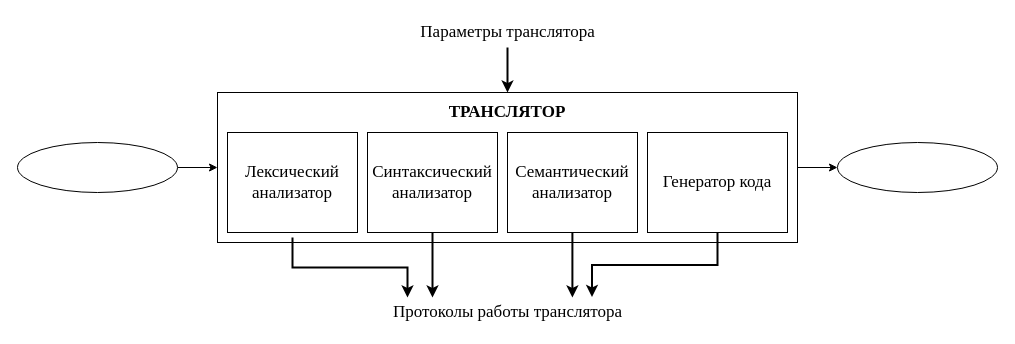
Some shapes in this 1015 by 344 pixel diagram are drawn without their labels. The shapes that lost their labels are listed below. From the top down, each one's centre as x and y in pixels, then its label:
At point (97, 167): "Исходный код".
At point (917, 167): "Ассемблерный код".
